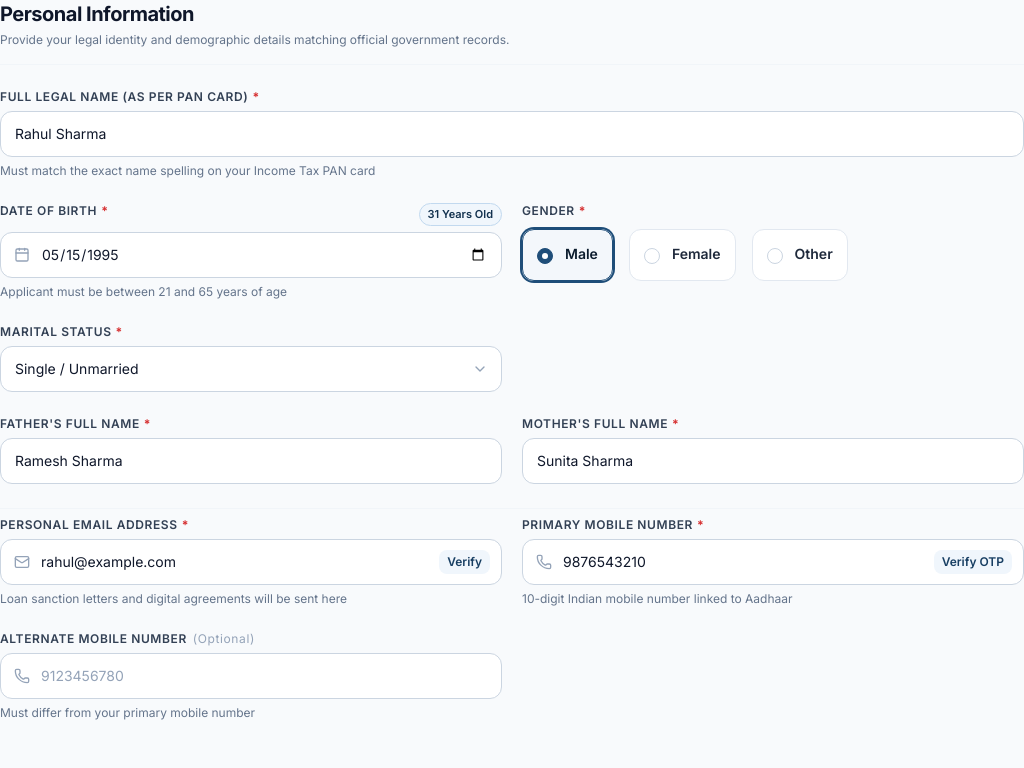
Test: Step2PersonalInfo Component Direct Tests › renders personal details and opens simulated OTP modal on button click
expect the heading "Personal Information" is shown: met, box left=0, top=2, right=194, bottom=26
expect the field showing "Rahul Sharma" is shown: met, box left=0, top=111, right=1023, bottom=157
Click the button "Verify OTP" at (973, 562), box left=934, top=550, right=1012, bottom=574
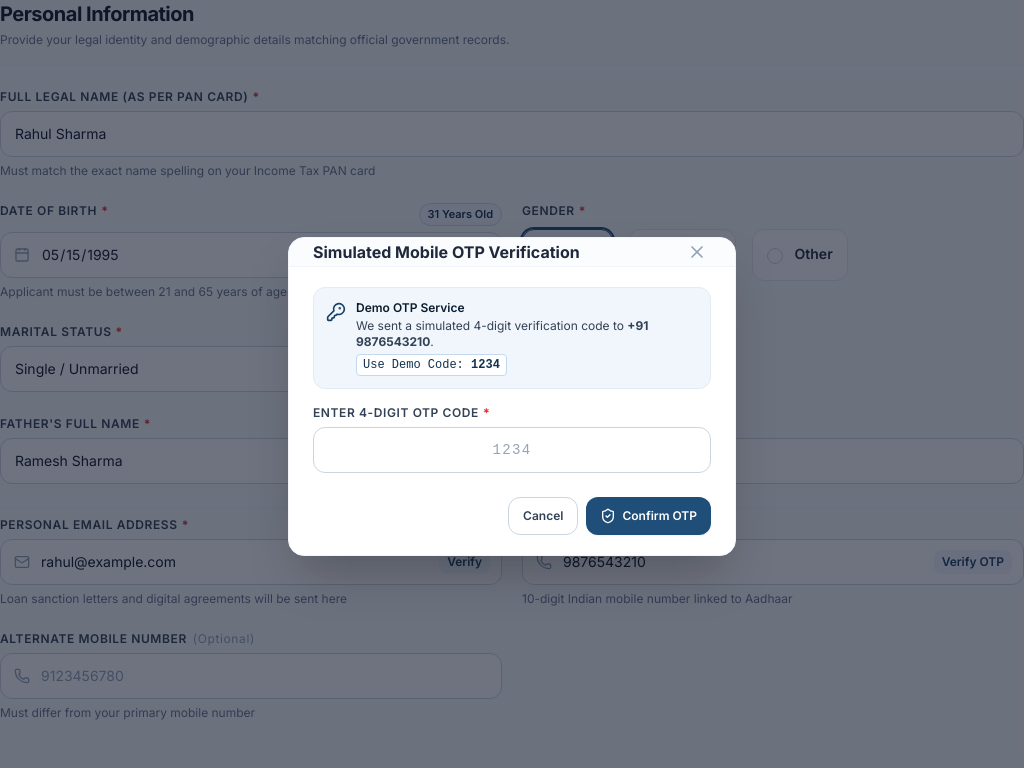
expect the heading "Simulated Mobile OTP Verification" is shown: met, box left=313, top=240, right=580, bottom=264
expect the text "Use Demo Code: 1234" is shown: met, box left=356, top=354, right=507, bottom=376
